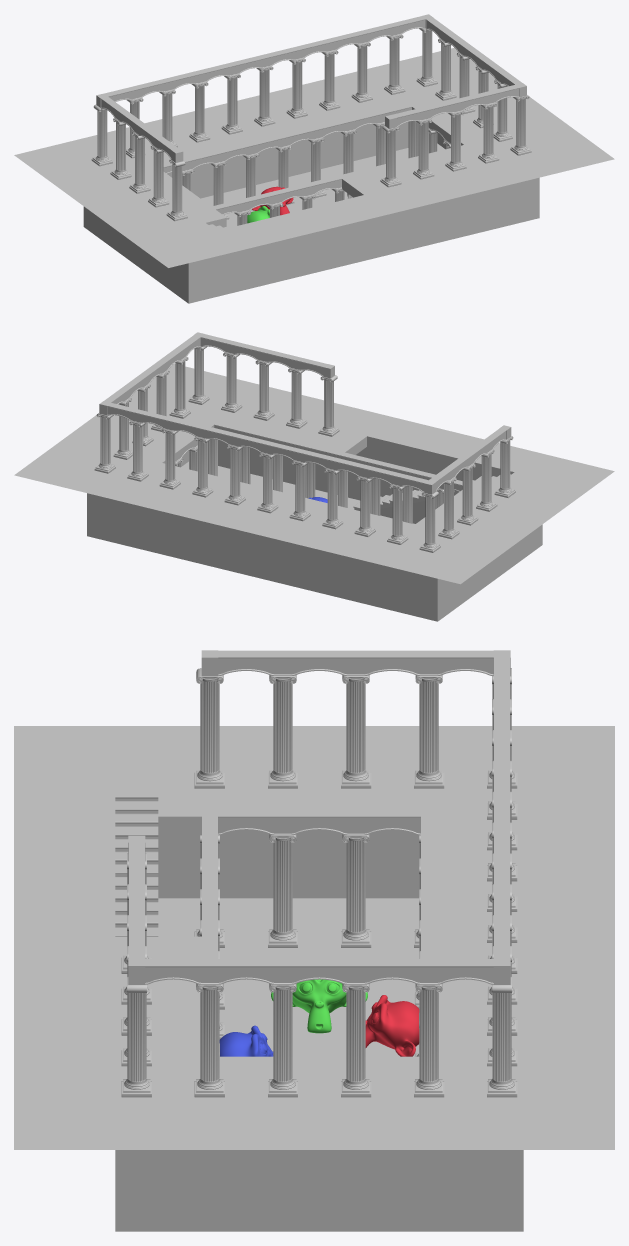
The model's file is gonza.gltf.
3 views of the same model, one above another, from view 1: azimuth 30°, elevation 25°; view 2: azimuth 150°, elevation 25°; view 3: azimuth 270°, elevation 25° (orthographic). The views are drawn at different scales.
Visible parts, largest first — view 1: Foundation, PillarTrim, Pillar.026, Pillar.032, Pillar.031, Pillar.033, Pillar.034, Pillar.035, Pillar.030, Pillar.044, Pillar.042, Pillar.025 (+19 smaller); view 2: Foundation, PillarTrim, Pillar.025, Pillar.032, Pillar.028, Pillar.030, Pillar.042, Pillar.044, Pillar.027, Pillar.036, Pillar.029, Pillar.034 (+13 smaller); view 3: Foundation, PillarTrim, StairsBottom7.002, Pillar.026, Pillar.040, Pillar.038, Pillar.037, Pillar.039, Pillar.021, Pillar.023, Pillar.024, SuzanneRed (+8 smaller).
Part boxes in pixels (bbox=[...]): Foundation: bbox=[14, 47, 614, 303]; PillarTrim: bbox=[96, 14, 526, 214]; Pillar.026: bbox=[166, 159, 187, 221]; Pillar.032: bbox=[286, 58, 307, 118]; Pillar.031: bbox=[254, 66, 275, 126]; Pillar.033: bbox=[319, 50, 340, 110]; Pillar.034: bbox=[351, 42, 372, 102]; Pillar.035: bbox=[384, 34, 405, 94]; Pillar.030: bbox=[221, 74, 242, 134]; Pillar.044: bbox=[413, 119, 434, 179]; Pillar.042: bbox=[478, 103, 499, 163]; Pillar.025: bbox=[91, 104, 112, 166]; Foundation: bbox=[14, 363, 614, 621]; PillarTrim: bbox=[99, 332, 511, 529]; Pillar.025: bbox=[419, 491, 440, 552]; Pillar.032: bbox=[224, 445, 245, 505]; Pillar.028: bbox=[354, 476, 375, 536]; Pillar.030: bbox=[289, 461, 310, 521]; Pillar.042: bbox=[221, 352, 242, 412]; Pillar.044: bbox=[286, 368, 307, 428]; Pillar.027: bbox=[387, 484, 408, 544]; Pillar.036: bbox=[94, 413, 115, 473]; Pillar.029: bbox=[322, 469, 343, 529]; Pillar.034: bbox=[159, 429, 180, 489]; Foundation: bbox=[14, 726, 614, 1231]; PillarTrim: bbox=[128, 650, 510, 1063]; StairsBottom7.002: bbox=[115, 801, 158, 889]; Pillar.026: bbox=[194, 668, 224, 788]; Pillar.040: bbox=[194, 983, 224, 1097]; Pillar.038: bbox=[341, 983, 371, 1097]; Pillar.037: bbox=[414, 984, 444, 1097]; Pillar.039: bbox=[268, 983, 297, 1097]; Pillar.021: bbox=[341, 834, 371, 947]; Pillar.023: bbox=[341, 675, 371, 788]; Pillar.024: bbox=[414, 675, 444, 788]; SuzanneRed: bbox=[365, 995, 419, 1056].
Bounding box in the file's own units: 27.49 × 7.76 × 16.46.
